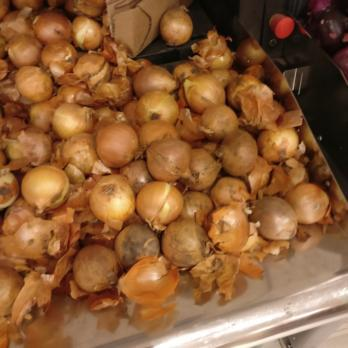Onion: (1, 1, 119, 342), (121, 47, 245, 286), (214, 97, 299, 300), (293, 182, 331, 227)
